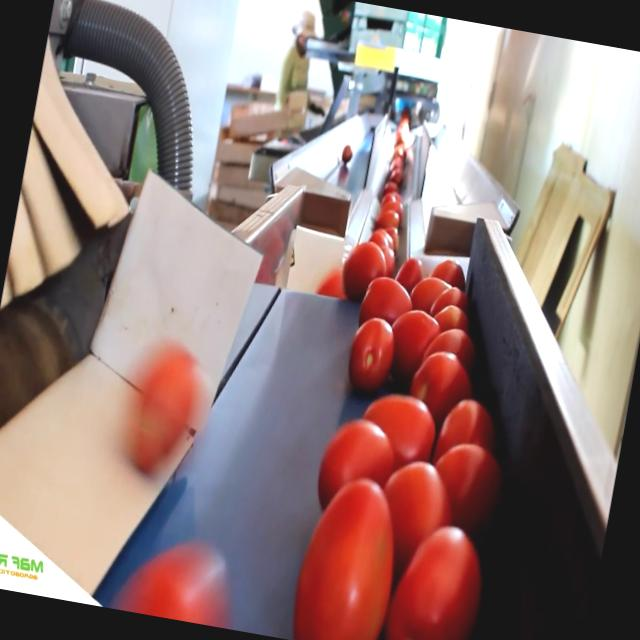Tomato: (286, 471, 410, 640), (118, 340, 212, 480), (380, 520, 487, 640), (114, 538, 238, 628), (375, 461, 453, 555), (352, 391, 436, 476), (314, 417, 392, 501), (404, 346, 478, 419), (434, 434, 496, 516), (341, 310, 398, 398), (379, 308, 445, 380), (350, 272, 416, 338), (433, 397, 498, 461), (335, 240, 387, 304), (426, 322, 482, 365), (407, 268, 456, 314), (431, 302, 474, 334), (430, 252, 470, 284), (392, 250, 422, 292), (368, 206, 400, 233), (334, 140, 359, 170), (380, 174, 401, 198)
